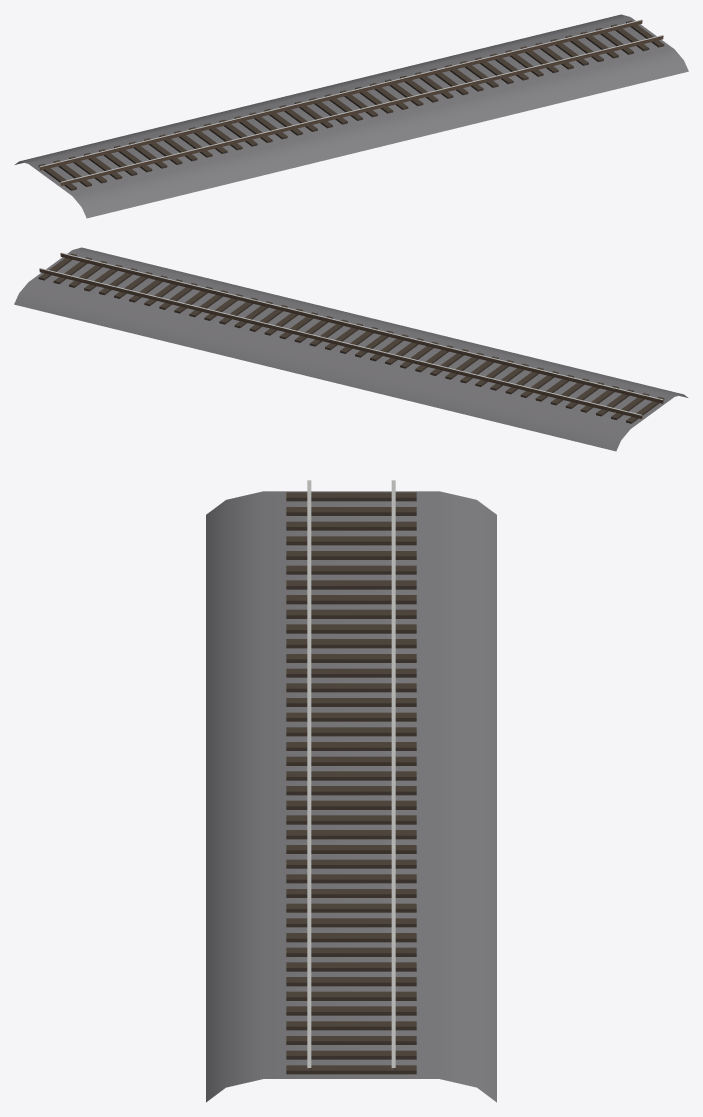
The model's file is rail_straight_center.glb.
The picture shows the model from 3 angles, top to bottom: view 1: azimuth 30°, elevation 25°; view 2: azimuth 150°, elevation 25°; view 3: azimuth 270°, elevation 25°; orthographic projection. The views are drawn at different scales.
Visible parts, largest first — view 1: rail_straight_center_lod0; view 2: rail_straight_center_lod0; view 3: rail_straight_center_lod0.
Boxes of the visible parts, x1,y1,x2,y2 form: rail_straight_center_lod0: (15,14,688,218); rail_straight_center_lod0: (14,247,687,451); rail_straight_center_lod0: (206,480,496,1102).
Size of what is drawn, in the model's own units: 27.71 by 0.76 by 5.8.
